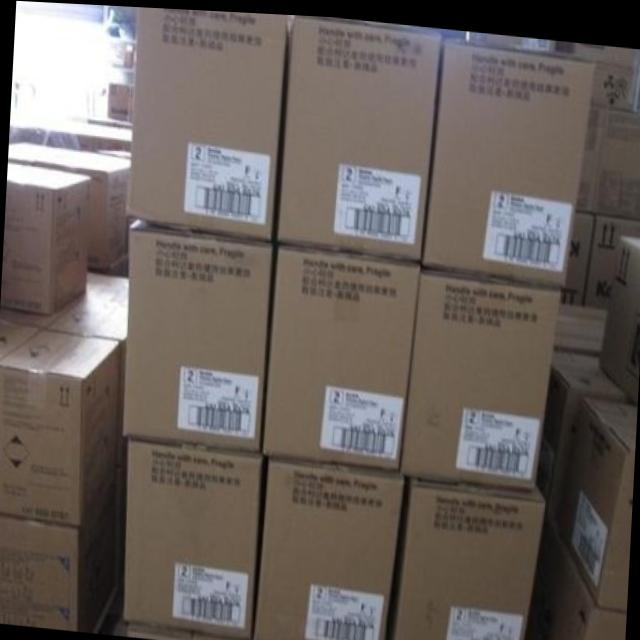box: (422, 34, 596, 282), (272, 13, 443, 257), (129, 6, 292, 237), (398, 259, 564, 485), (264, 241, 423, 466), (122, 219, 272, 450), (121, 436, 263, 639), (254, 454, 404, 640), (393, 473, 545, 640), (0, 330, 121, 528), (0, 470, 116, 632), (559, 390, 638, 608), (533, 342, 629, 518), (8, 139, 133, 266), (0, 161, 92, 314), (525, 517, 627, 640), (597, 228, 640, 401), (576, 100, 640, 214), (44, 271, 129, 340), (560, 35, 638, 103), (585, 207, 640, 302), (0, 294, 86, 330), (562, 206, 594, 298), (556, 294, 608, 346), (0, 319, 44, 362), (469, 27, 557, 47), (108, 81, 134, 122)
